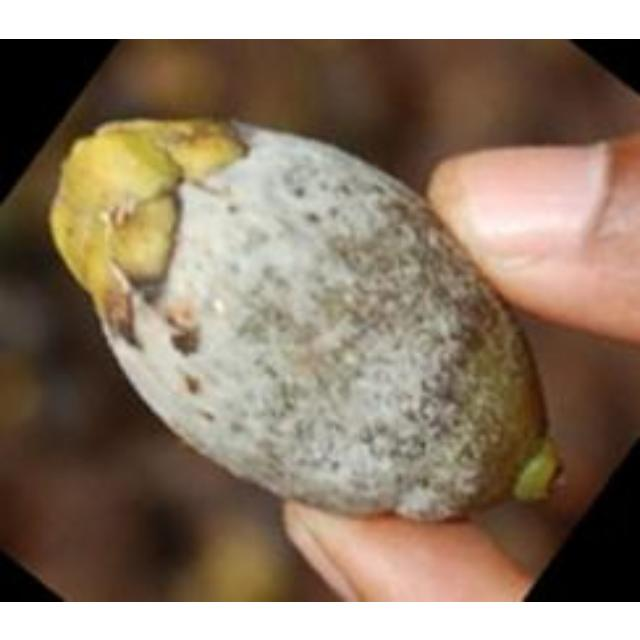damaged: (50, 119, 551, 515)
